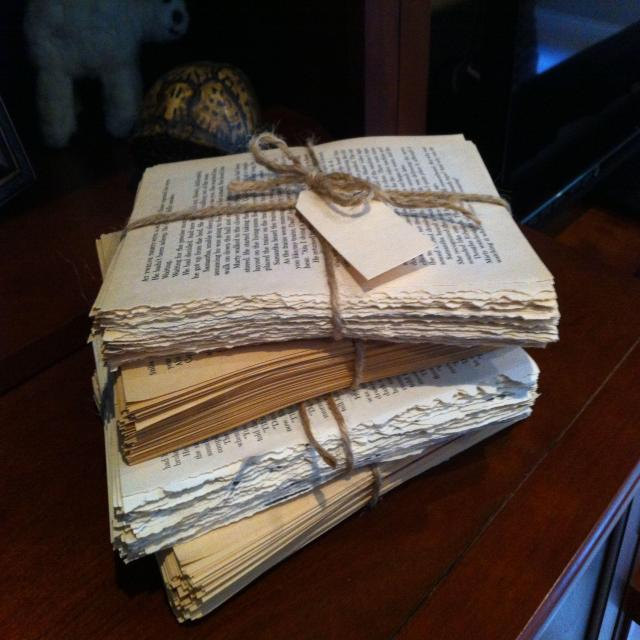paper: (87, 124, 560, 626)
